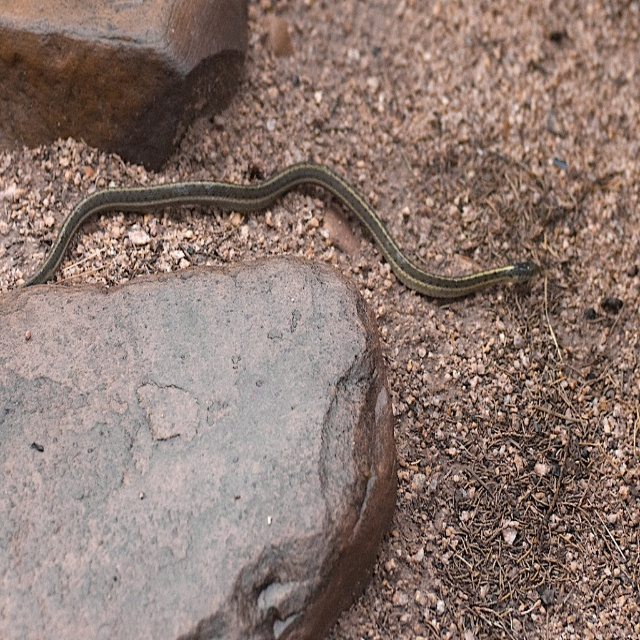Snake: (18, 161, 541, 299)
